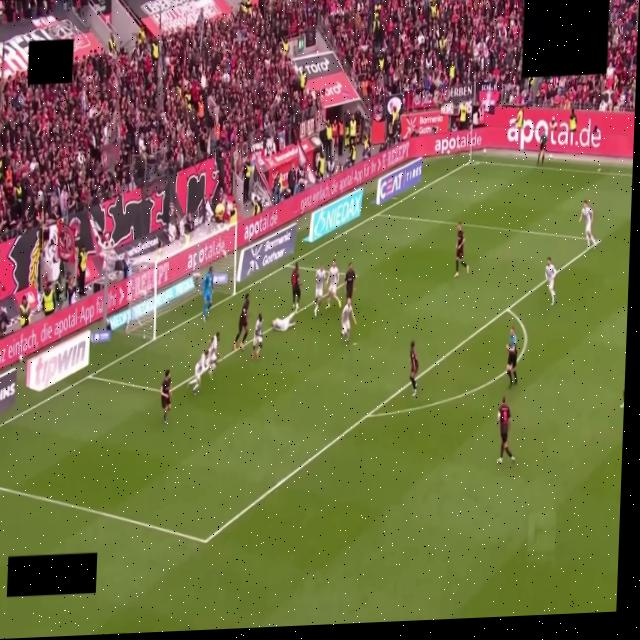player: (495, 398, 515, 463), (579, 200, 598, 247), (234, 294, 249, 349), (193, 350, 211, 395), (326, 260, 341, 308), (455, 222, 468, 276), (341, 299, 356, 343), (314, 264, 326, 315), (160, 369, 171, 423), (201, 267, 212, 320), (251, 314, 263, 359), (545, 257, 556, 305), (291, 262, 301, 312), (410, 341, 418, 396), (272, 312, 295, 331), (208, 333, 219, 371), (345, 263, 356, 300), (621, 391, 623, 409)
referee: (506, 329, 517, 387)
